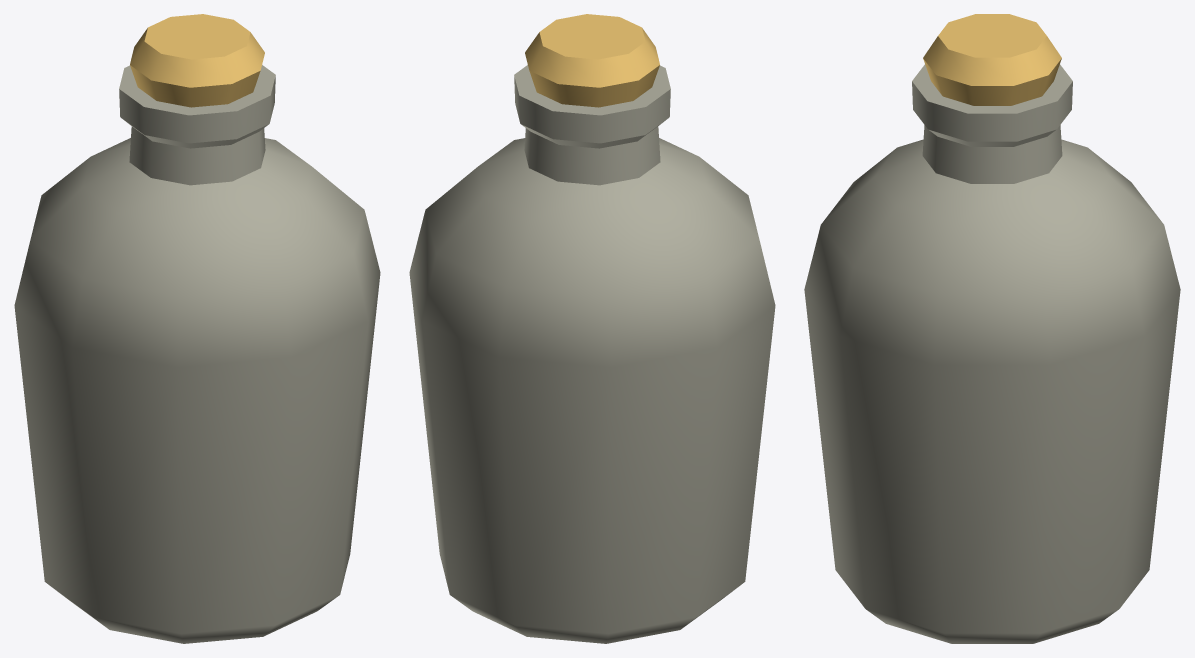
The model's file is Bottle_J.fbx.
3 renders of one model, left to right at view 1: azimuth 30°, elevation 25°; view 2: azimuth 150°, elevation 25°; view 3: azimuth 270°, elevation 25°, orthographic.
Visible parts, largest first — view 1: Bottle_J; view 2: Bottle_J; view 3: Bottle_J.
Part boxes in pixels (x1=…): Bottle_J: x1=14, y1=14, x2=380, y2=643; Bottle_J: x1=409, y1=14, x2=775, y2=643; Bottle_J: x1=804, y1=14, x2=1180, y2=643.
Bounding box in the file's own units: 21.43 × 36.68 × 22.53.
